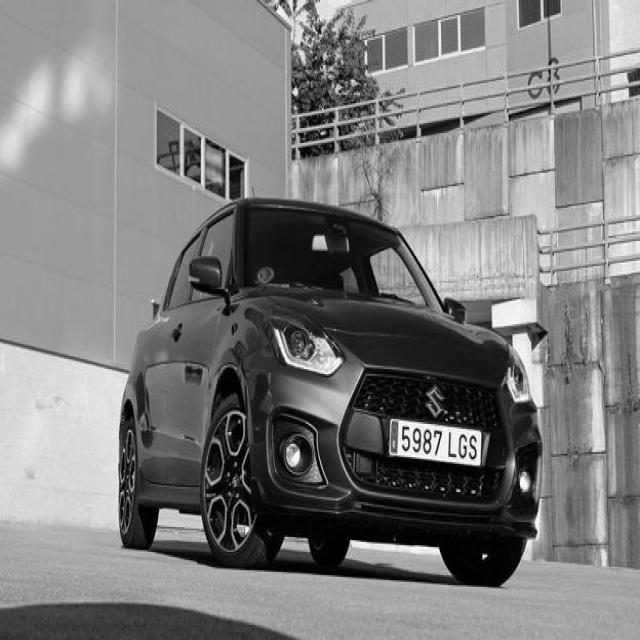football: (389, 418, 482, 464)
